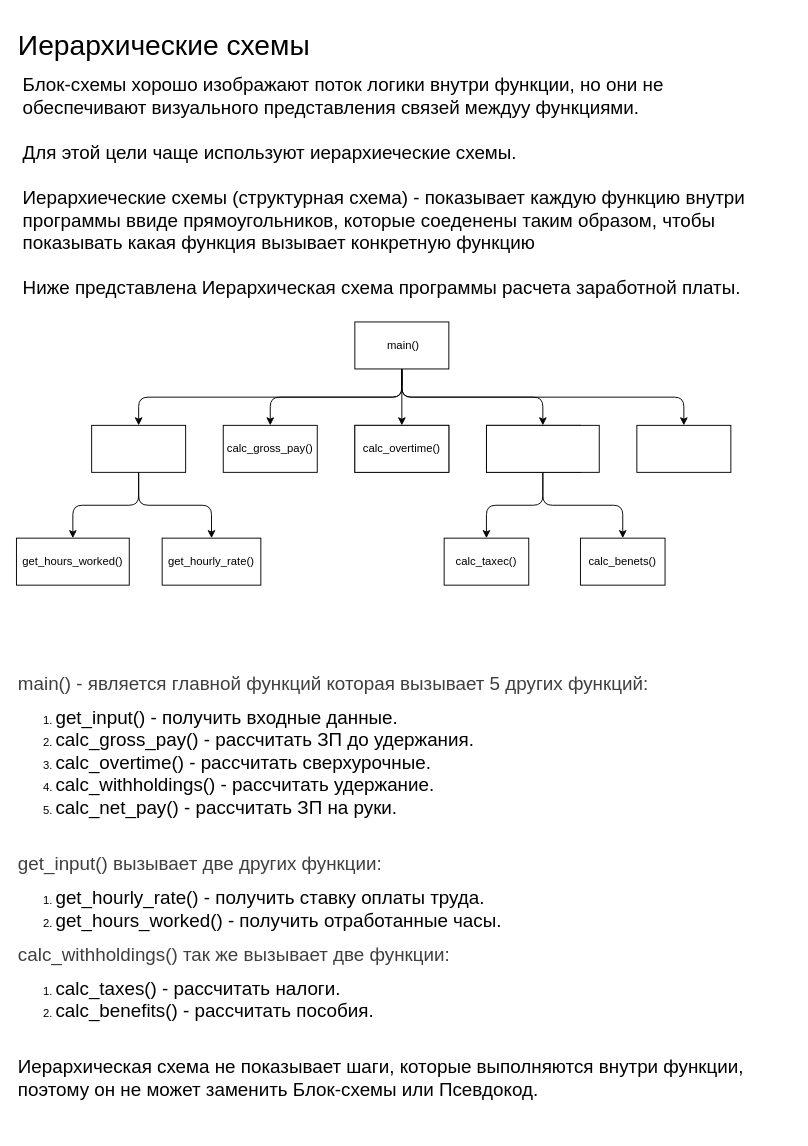
Some shapes in this 808 by 1146 pixel diagram are drawn without their labels. The shapes that lost their labels are listed below. From the top down, each one's centre as x and y in pixels, then its label:
At [138,448]: "get_input()".
At [542,448]: "calc_withholdings()".
At [683,448]: "calc_net_pay()".
